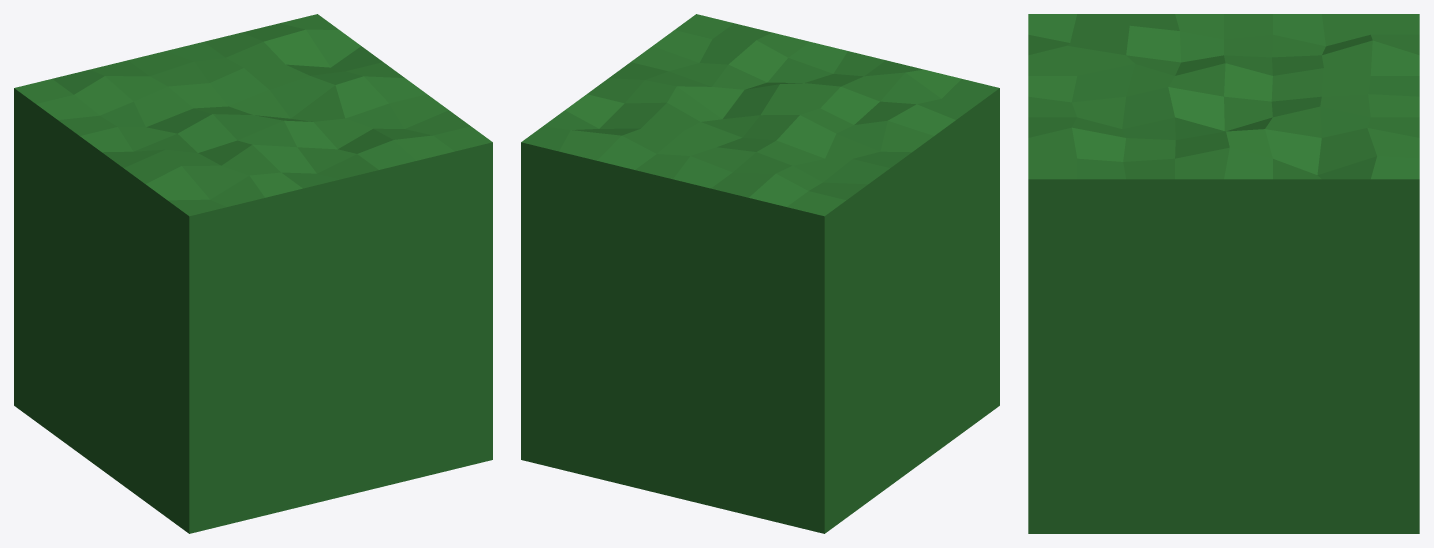
File: GroundC.fbx
The picture shows the model from 3 angles, left to right: view 1: azimuth 30°, elevation 25°; view 2: azimuth 150°, elevation 25°; view 3: azimuth 270°, elevation 25°; orthographic projection. The views are drawn at different scales.
Visible parts, largest first — view 1: Floor1; view 2: Floor1; view 3: Floor1.
Boxes of the visible parts, left/top/right/bottom form: Floor1: left=14, top=14, right=492, bottom=533; Floor1: left=521, top=14, right=999, bottom=533; Floor1: left=1028, top=14, right=1419, bottom=533.
Size of the model in its own units: 200 by 207 by 200.
